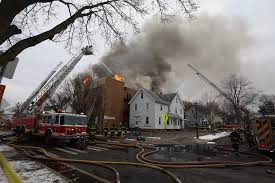smoke: (120, 1, 273, 55), (177, 58, 275, 88), (97, 57, 175, 86)
